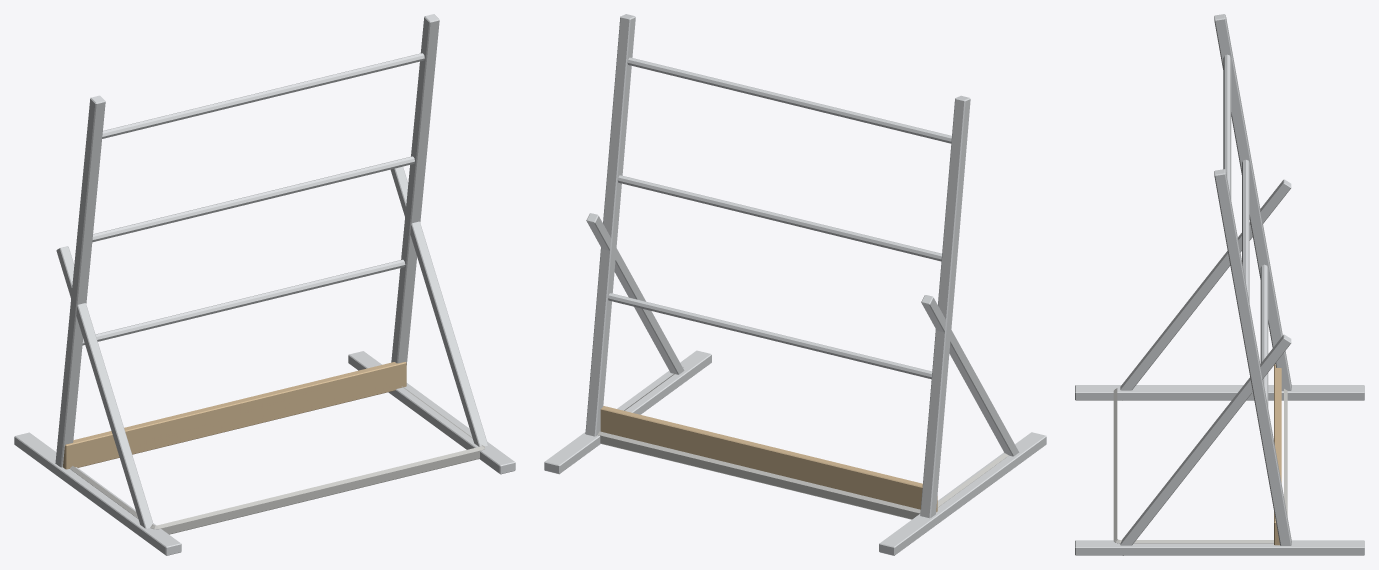
The model's file is garden-centre-and-florist-tree-and-shrub-display-frame-a4334182__17727.glb.
3 views of the same model, side by side, from view 1: azimuth 30°, elevation 25°; view 2: azimuth 150°, elevation 25°; view 3: azimuth 270°, elevation 25° (orthographic). The views are drawn at different scales.
Visible parts, largest first — view 1: tree-and-shrub-display-frame; view 2: tree-and-shrub-display-frame; view 3: tree-and-shrub-display-frame.
Boxes of the visible parts, <box> form: tree-and-shrub-display-frame: <box>14,14,515,555</box>; tree-and-shrub-display-frame: <box>544,14,1046,555</box>; tree-and-shrub-display-frame: <box>1075,14,1364,555</box>.
Bounding box in the file's own units: 1.99 × 2.19 × 1.5.
